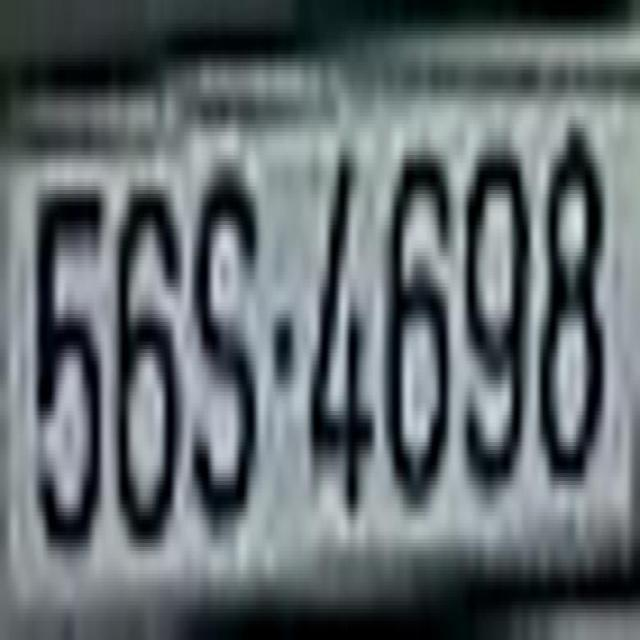4: (309, 116, 376, 508)
5: (33, 163, 106, 551)
6: (118, 155, 184, 547), (392, 108, 456, 504)
8: (536, 58, 602, 489)
9: (464, 105, 530, 481)
S: (195, 159, 263, 528)
